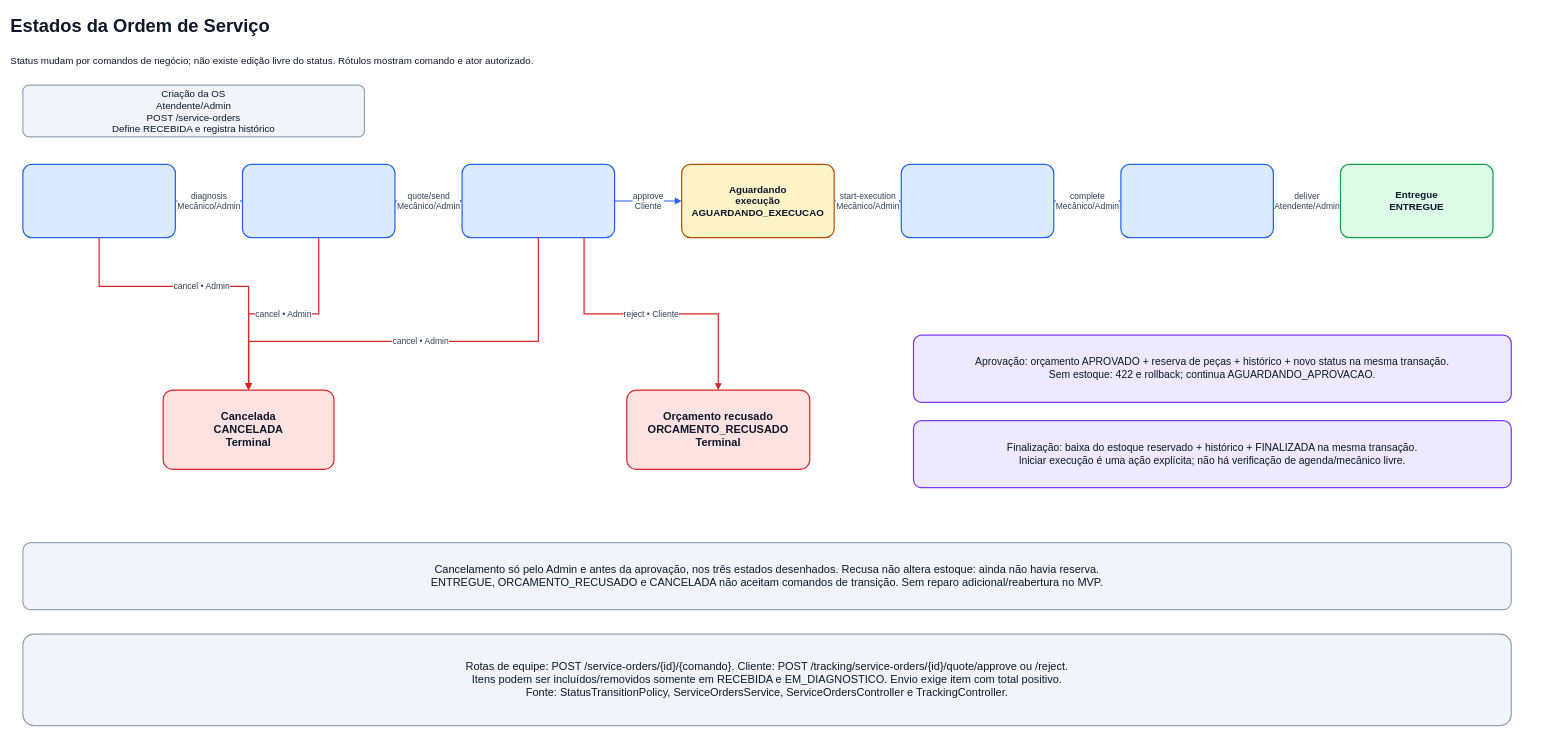
This 1546x736 diagram has some shape labels left out. Each missing label, with the box of its shape:
Aguardando aprovação AGUARDANDO_APROVACAO: (461, 163, 615, 238)
Em diagnóstico EM_DIAGNOSTICO: (242, 163, 395, 238)
Em execução EM_EXECUCAO: (900, 163, 1054, 238)
Finalizada FINALIZADA: (1120, 163, 1274, 238)
Recebida RECEBIDA: (22, 163, 176, 238)
